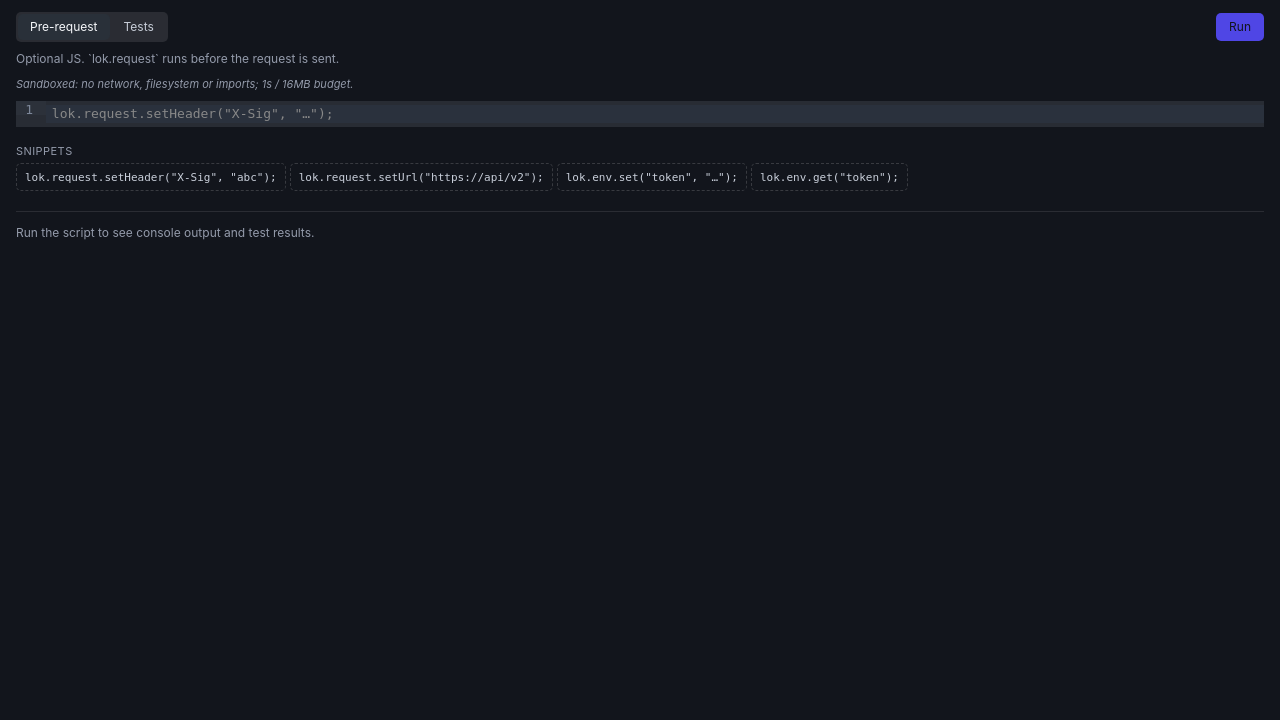
Test: ScriptsPanel › disables Run on the post segment until a response exists
The width and height of the screenshot is (1280, 720).
Click the tab "Tests": (139, 27) [112, 14, 166, 40]
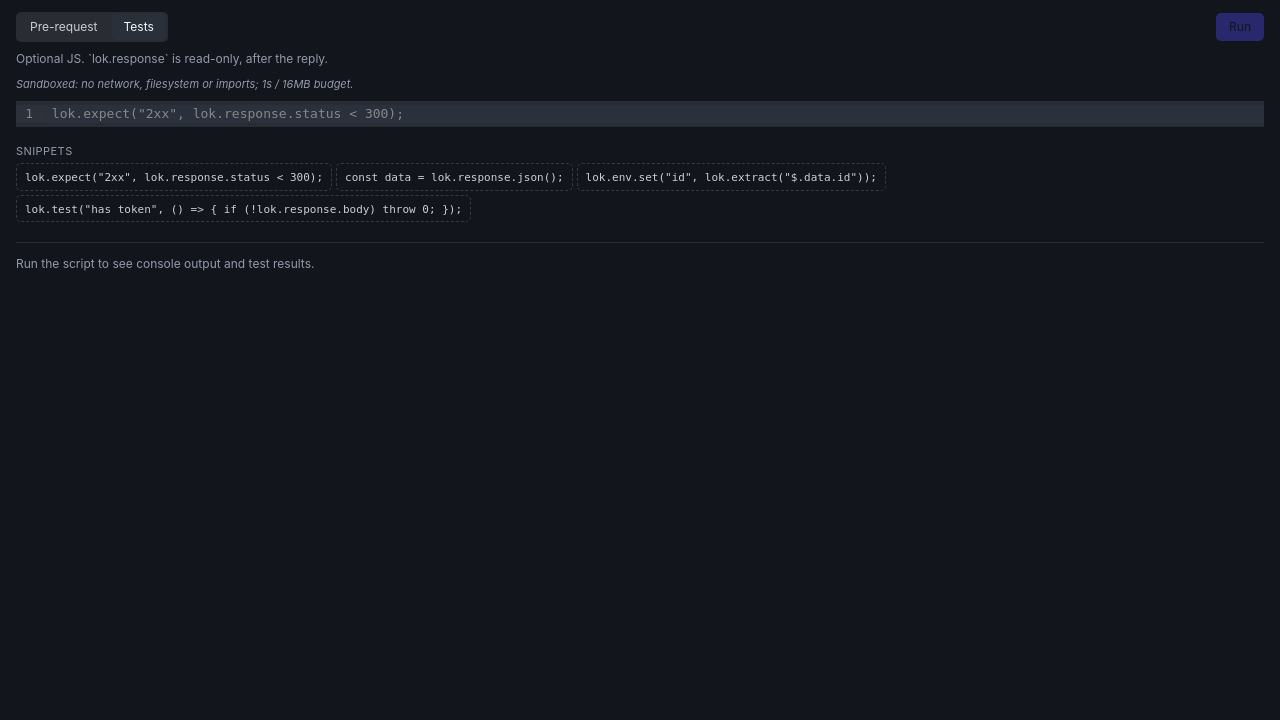
Check: the button "Run" is disabled, box [1216, 13, 1264, 41]
